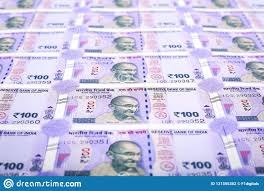hundred: (65, 133, 218, 171), (68, 88, 200, 118), (77, 56, 200, 82), (79, 33, 188, 50)
